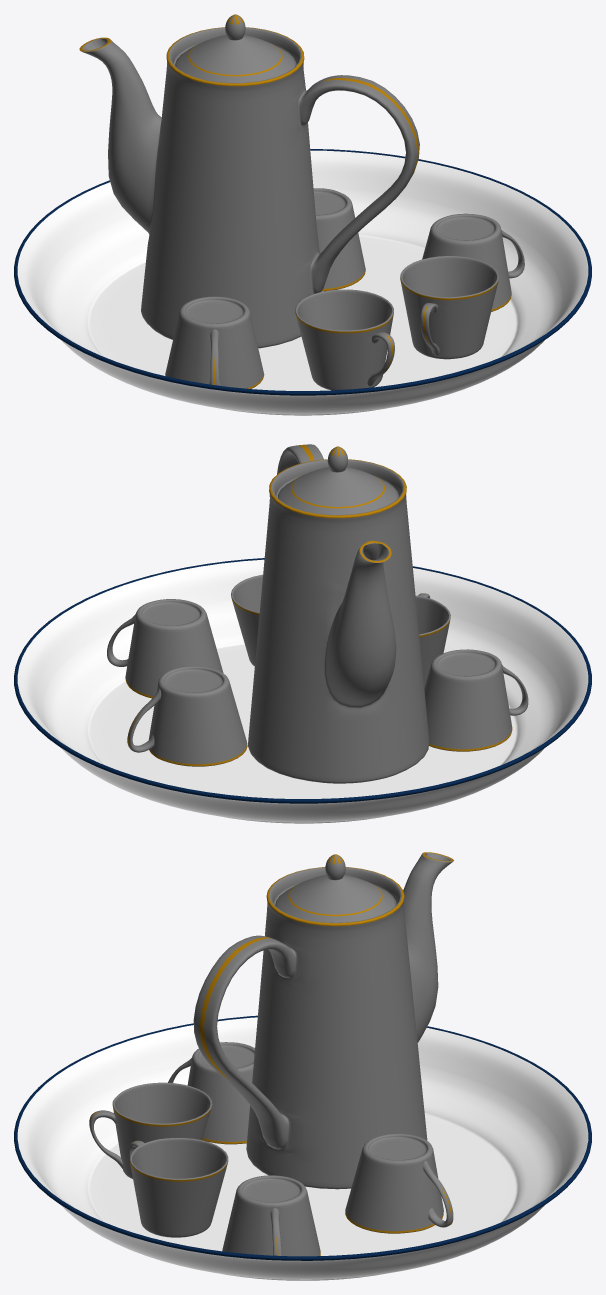
3 renders of one model, top to bottom at view 1: azimuth 30°, elevation 25°; view 2: azimuth 150°, elevation 25°; view 3: azimuth 270°, elevation 25°, orthographic.
Visible parts, largest first — view 1: 3d66-Editable_mesh-22848589-343, 3d66-Editable_mesh-22848589-342; view 2: 3d66-Editable_mesh-22848589-343, 3d66-Editable_mesh-22848589-342; view 3: 3d66-Editable_mesh-22848589-343, 3d66-Editable_mesh-22848589-342.
Boxes of the visible parts, bbox=[...] form: 3d66-Editable_mesh-22848589-343: bbox=[79, 14, 524, 390]; 3d66-Editable_mesh-22848589-342: bbox=[14, 149, 591, 415]; 3d66-Editable_mesh-22848589-343: bbox=[107, 444, 528, 783]; 3d66-Editable_mesh-22848589-342: bbox=[14, 558, 591, 823]; 3d66-Editable_mesh-22848589-343: bbox=[89, 852, 453, 1256]; 3d66-Editable_mesh-22848589-342: bbox=[14, 1015, 591, 1280].
Size of the model in its own units: 38.69 by 22.97 by 38.69.
